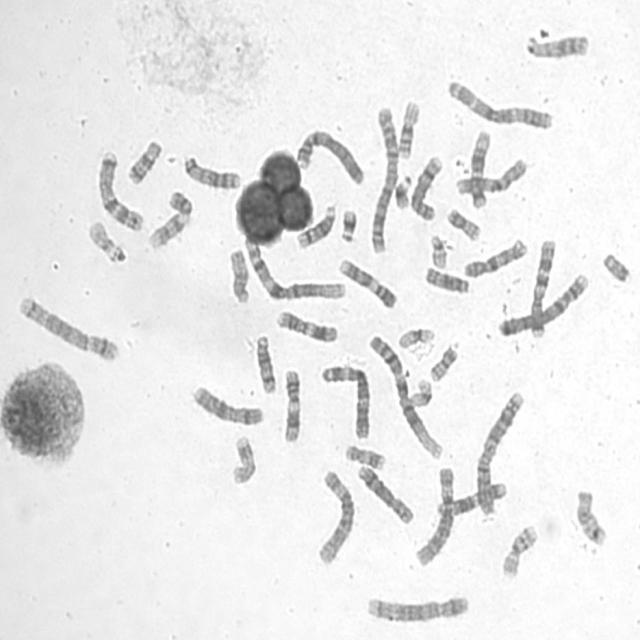A1: (365, 331, 445, 462), (241, 235, 348, 303)
A2: (472, 388, 526, 517), (367, 102, 400, 256)
A3: (443, 76, 555, 131), (318, 360, 372, 440)
B4: (495, 270, 590, 340), (292, 126, 366, 188)
B5: (15, 292, 120, 364), (362, 591, 470, 625)
C10: (452, 155, 528, 196), (460, 235, 529, 280)
C11: (273, 307, 339, 344), (280, 364, 304, 444)
C12: (432, 477, 508, 519), (467, 127, 493, 210)
C6: (411, 462, 456, 568), (313, 466, 357, 566)
C7: (94, 148, 146, 233), (527, 235, 558, 341)
C8: (354, 461, 415, 526), (408, 152, 444, 222)
C9: (336, 255, 398, 310), (144, 187, 194, 251)
D13: (522, 30, 591, 61), (182, 156, 242, 190)
D14: (293, 200, 337, 251), (252, 330, 278, 395)
D15: (422, 263, 471, 296), (226, 246, 250, 305)
E16: (498, 521, 540, 580), (394, 96, 422, 160)
E17: (228, 432, 257, 486), (342, 442, 387, 472)
E18: (572, 485, 609, 547), (123, 136, 163, 186)
F19: (395, 323, 436, 350), (406, 375, 433, 408)
F20: (443, 205, 482, 243), (426, 342, 459, 382)
G21: (392, 171, 412, 211), (338, 206, 358, 244)
G22: (85, 217, 122, 263), (426, 230, 449, 270)
X: (189, 382, 265, 428)
Y: (600, 249, 631, 284)
